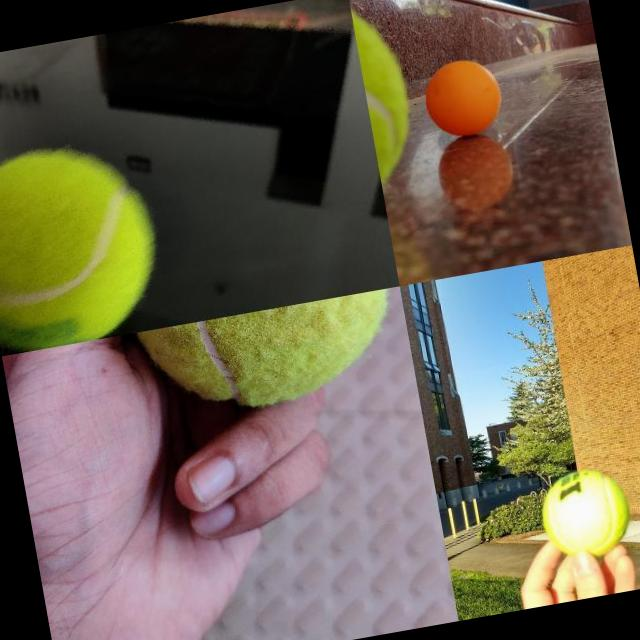Tennis Ball: (126, 286, 414, 427), (0, 131, 172, 355), (534, 462, 638, 564)
